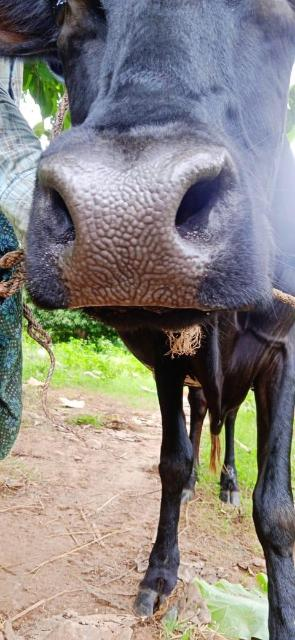Muzzle: (41, 158, 209, 306)
